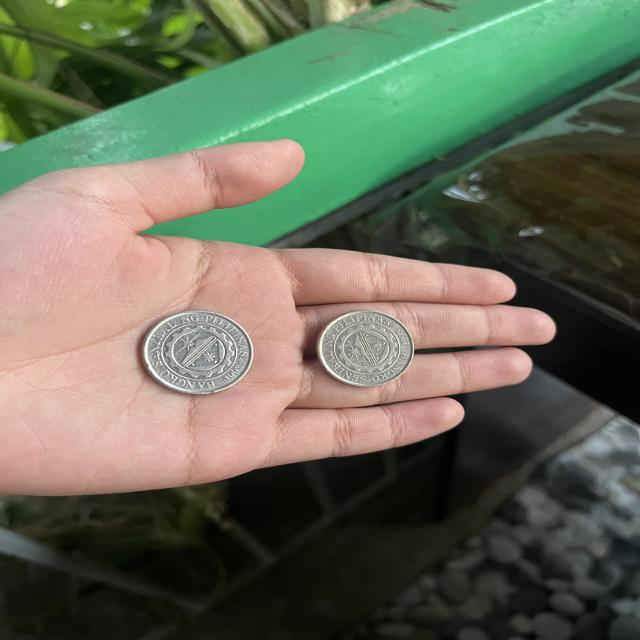1_Old_Back: (149, 314, 240, 387), (327, 314, 405, 384)
